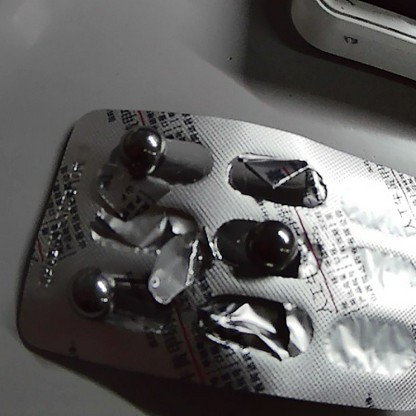ironball: (113, 124, 182, 174), (70, 263, 115, 318), (247, 215, 288, 274)
